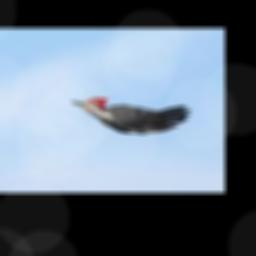Woodpecker: (72, 98, 194, 133)
